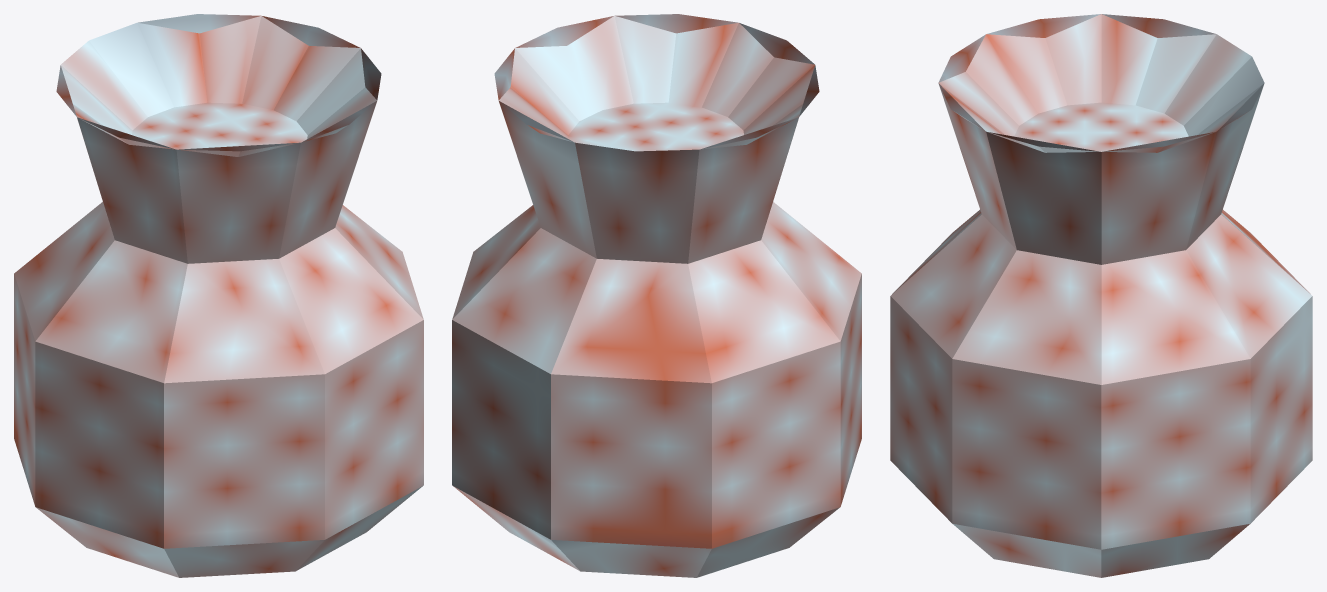
File: decoration-bottle-1.glb
The picture shows the model from 3 angles, left to right: view 1: azimuth 30°, elevation 25°; view 2: azimuth 150°, elevation 25°; view 3: azimuth 270°, elevation 25°; orthographic projection.
Visible parts, largest first — view 1: Cylinder; view 2: Cylinder; view 3: Cylinder.
Boxes of the visible parts, x1,y1,x2,y2 form: Cylinder: (14, 14, 423, 577); Cylinder: (452, 14, 861, 577); Cylinder: (890, 14, 1312, 577).
Bounding box in the file's own units: 0.1797 × 0.2023 × 0.1797.
1 material, 1 textured.
